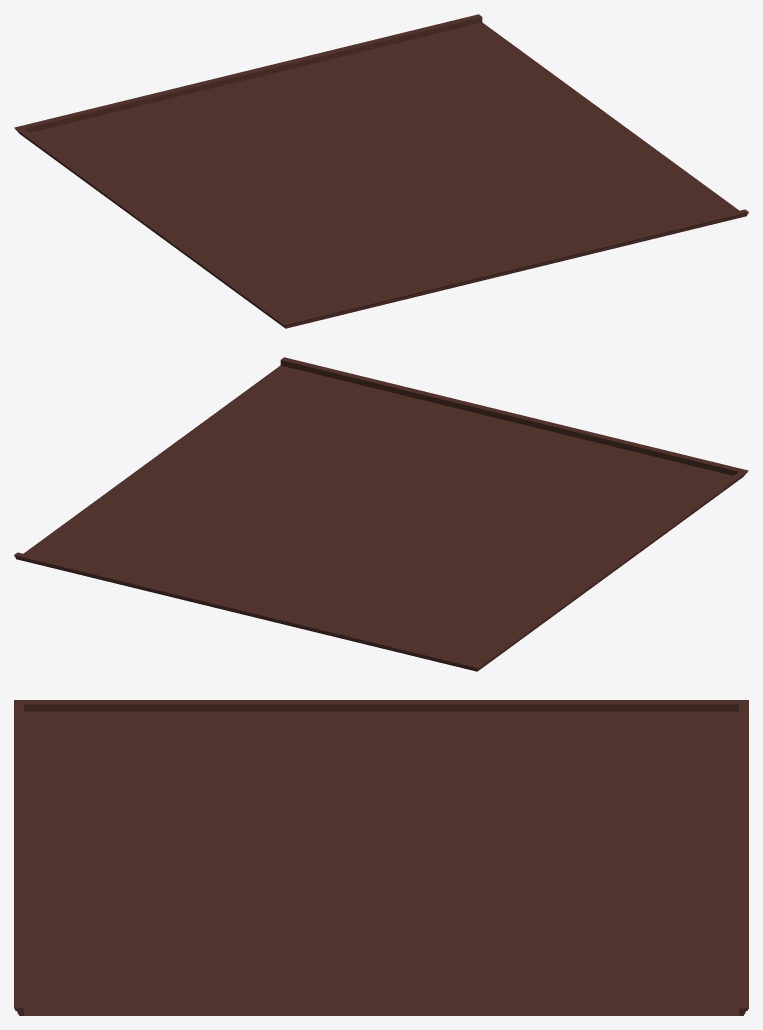
Rendered from BuildingBig1_3.fbx.
3 renders of one model, top to bottom at view 1: azimuth 30°, elevation 25°; view 2: azimuth 150°, elevation 25°; view 3: azimuth 270°, elevation 25°, orthographic. The views are drawn at different scales.
Visible parts, largest first — view 1: BuildingBig1_3; view 2: BuildingBig1_3; view 3: BuildingBig1_3.
Part boxes in pixels (x1=…): BuildingBig1_3: x1=14, y1=14, x2=748, y2=328; BuildingBig1_3: x1=14, y1=357, x2=748, y2=671; BuildingBig1_3: x1=14, y1=700, x2=748, y2=1015.
Size of the model in its own units: 6124 by 69.12 by 6168.
